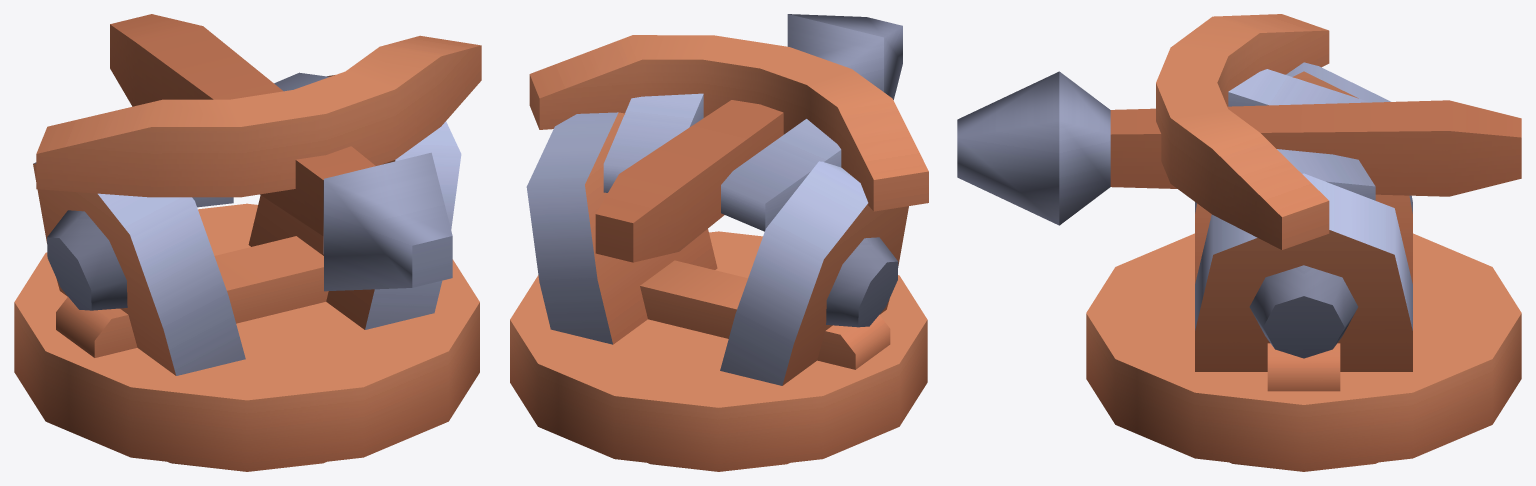
Rendered from weapon-ballista.glb.
The picture shows the model from 3 angles, left to right: view 1: azimuth 30°, elevation 25°; view 2: azimuth 150°, elevation 25°; view 3: azimuth 270°, elevation 25°; orthographic projection. The views are drawn at different scales.
Visible parts, largest first — view 1: weapon-ballista, arrow; view 2: weapon-ballista, arrow; view 3: weapon-ballista, arrow.
Boxes of the visible parts, x1,y1,x2,y2 form: weapon-ballista: (14,75,479,471); arrow: (36,14,481,291); weapon-ballista: (510,112,927,471); arrow: (529,14,928,262); weapon-ballista: (1086,62,1521,471); arrow: (957,14,1521,249).
Bounding box in the file's own units: 0.6626 × 0.5 × 0.7776.
1 material, 1 textured.
